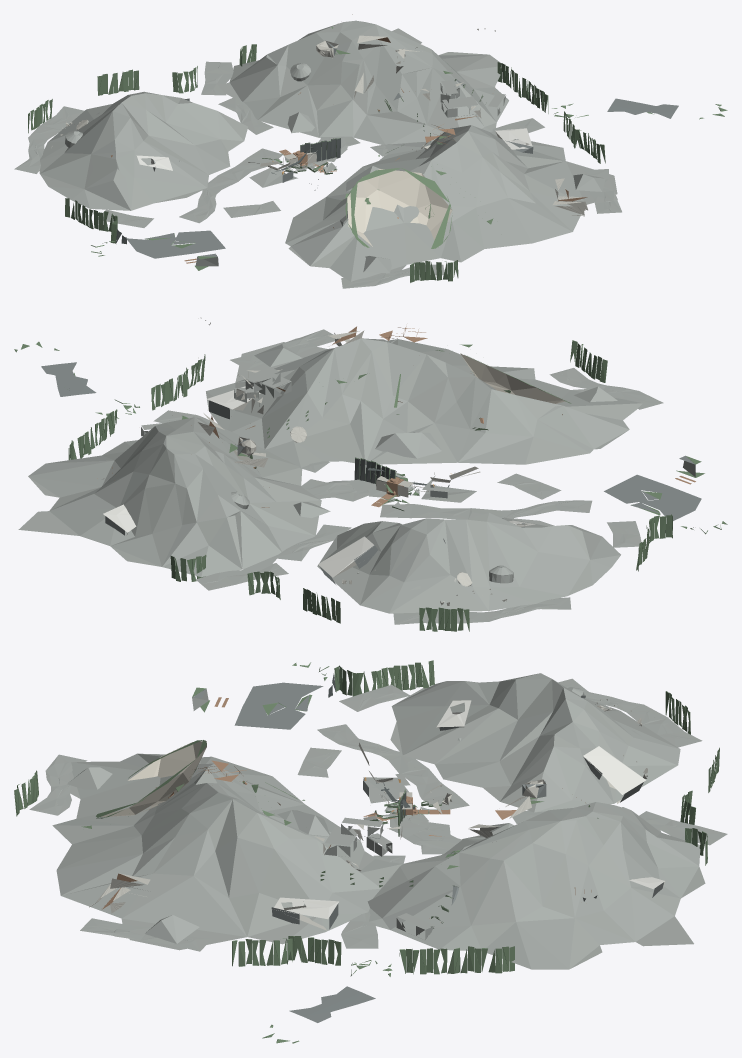
File: junkyard_1.glb
The picture shows the model from 3 angles, top to bottom: view 1: azimuth 30°, elevation 25°; view 2: azimuth 150°, elevation 25°; view 3: azimuth 270°, elevation 25°; orthographic projection. The views are drawn at different scales.
Visible parts, largest first — view 1: trail_path_end_LOD0, spheretank_walkway_d_LOD0, dish_radio_LOD0, LOD0, shipping_container_900_a_LOD0, bucket_excavator_control_LOD0, perimeter_wall_S_150_LOD0; view 2: trail_path_end_LOD0, spheretank_walkway_d_LOD0, LOD0, shipping_container_900_a_LOD0, bucket_excavator_control_LOD0, dish_radio_LOD0, perimeter_wall_S_150_LOD0; view 3: trail_path_end_LOD0, spheretank_walkway_d_LOD0, LOD0, bucket_excavator_control_LOD0, shipping_container_900_a_LOD0, dish_radio_LOD0.
Part boxes in pixels (x1,y1,x2,y2): trail_path_end_LOD0: (14,20,621,288); spheretank_walkway_d_LOD0: (28,14,727,282); dish_radio_LOD0: (347,169,452,246); LOD0: (126,41,678,258); shipping_container_900_a_LOD0: (51,28,587,216); bucket_excavator_control_LOD0: (136,128,532,170); perimeter_wall_S_150_LOD0: (116,138,340,244); trail_path_end_LOD0: (18,329,695,624); spheretank_walkway_d_LOD0: (14,326,727,631); LOD0: (41,362,701,584); shipping_container_900_a_LOD0: (127,317,531,605); bucket_excavator_control_LOD0: (103,386,535,577); dish_radio_LOD0: (460,353,565,403); perimeter_wall_S_150_LOD0: (354,457,665,532); trail_path_end_LOD0: (29,673,727,969); spheretank_walkway_d_LOD0: (14,660,719,1043); LOD0: (192,682,663,1022); bucket_excavator_control_LOD0: (274,700,664,919); shipping_container_900_a_LOD0: (89,699,664,930); dish_radio_LOD0: (101,741,206,816).
Size of the model in its own units: 197 by 36.68 by 156.
